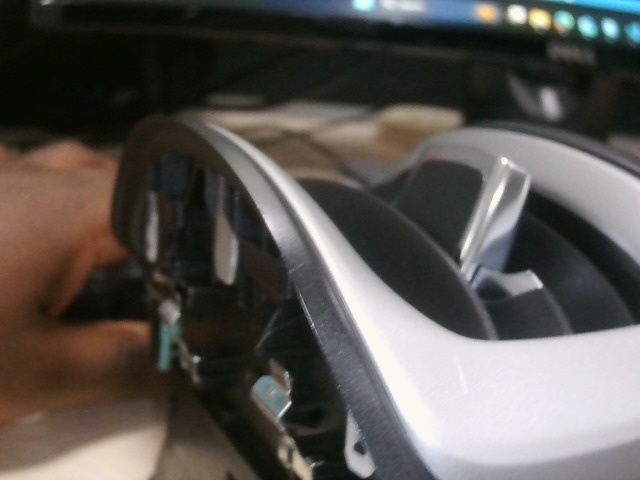NG: (449, 351, 476, 396), (287, 253, 311, 295)
